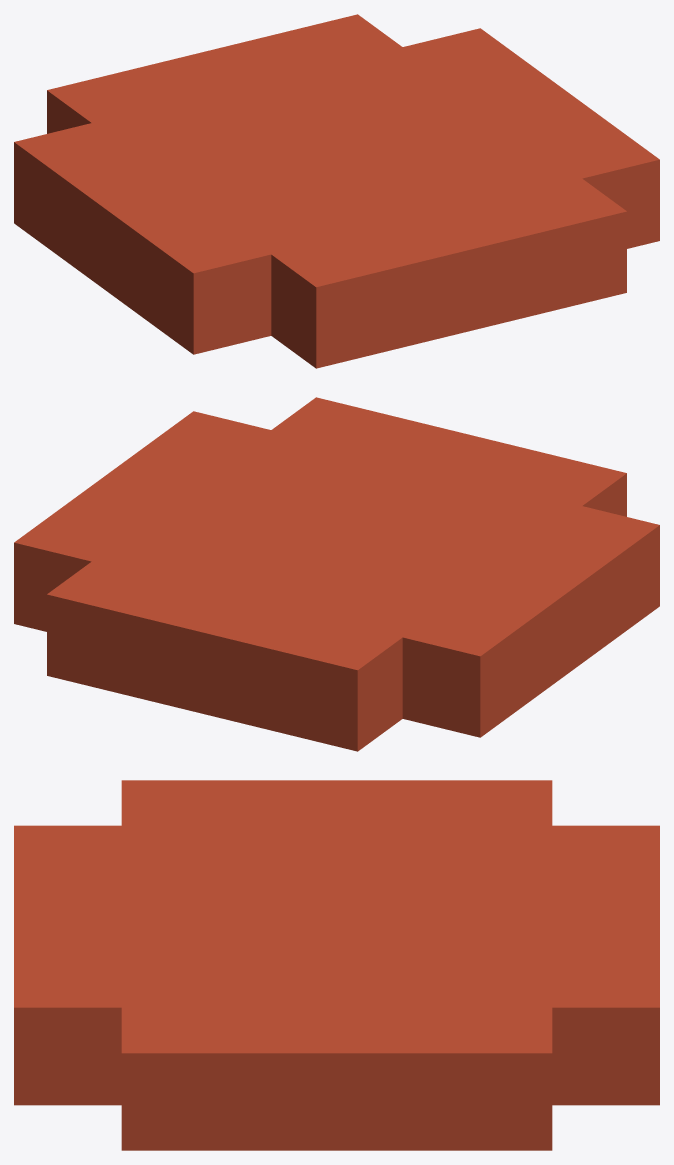
The model's file is coaster.glb.
3 views of the same model, one above another, from view 1: azimuth 30°, elevation 25°; view 2: azimuth 150°, elevation 25°; view 3: azimuth 270°, elevation 25° (orthographic). The views are drawn at different scales.
Visible parts, largest first — view 1: Untitled; view 2: Untitled; view 3: Untitled.
Part boxes in pixels (x1,y1,x2,y2): Untitled: [14, 14, 659, 368]; Untitled: [14, 397, 659, 751]; Untitled: [14, 780, 659, 1150].
Bounding box in the file's own units: 0.18 × 0.03 × 0.18.
1 material, 1 textured.
